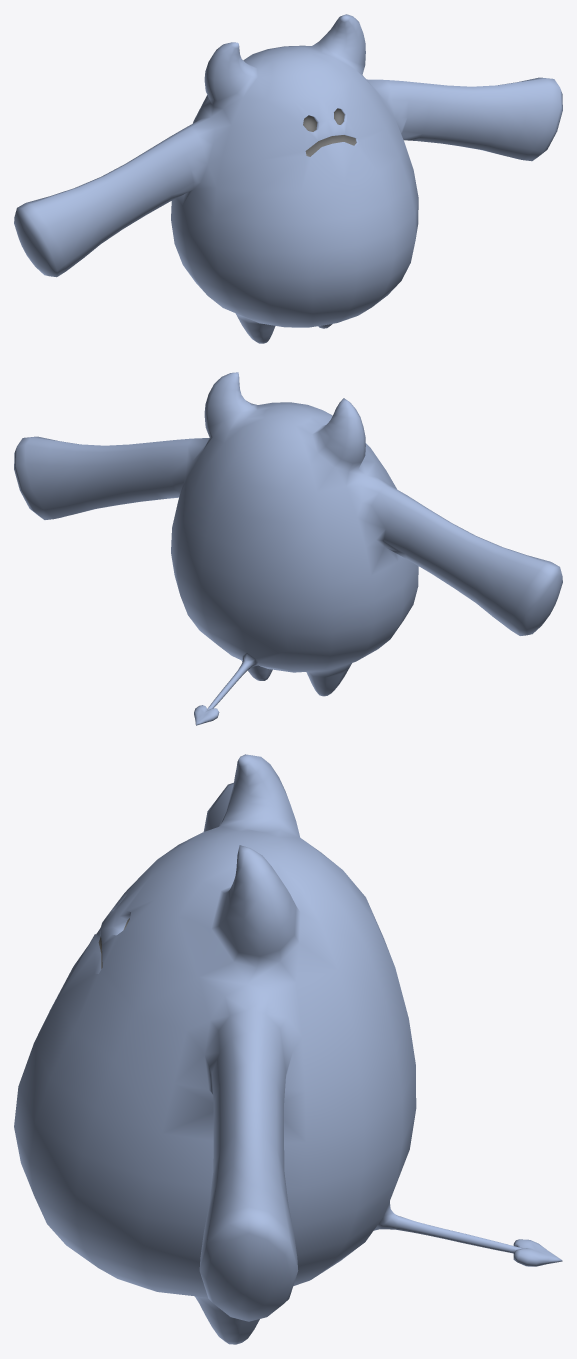
Rendered from popo kari.fbx.
3 renders of one model, top to bottom at view 1: azimuth 30°, elevation 25°; view 2: azimuth 150°, elevation 25°; view 3: azimuth 270°, elevation 25°, orthographic. The views are drawn at different scales.
Visible parts, largest first — view 1: pSphere7; view 2: pSphere7; view 3: pSphere7.
Part boxes in pixels (box(x1,y1,x2,y2)): pSphere7: box(14, 14, 562, 343); pSphere7: box(14, 372, 562, 725); pSphere7: box(14, 754, 562, 1344).
Bounding box in the file's own units: 44.05 × 23.82 × 22.95.
